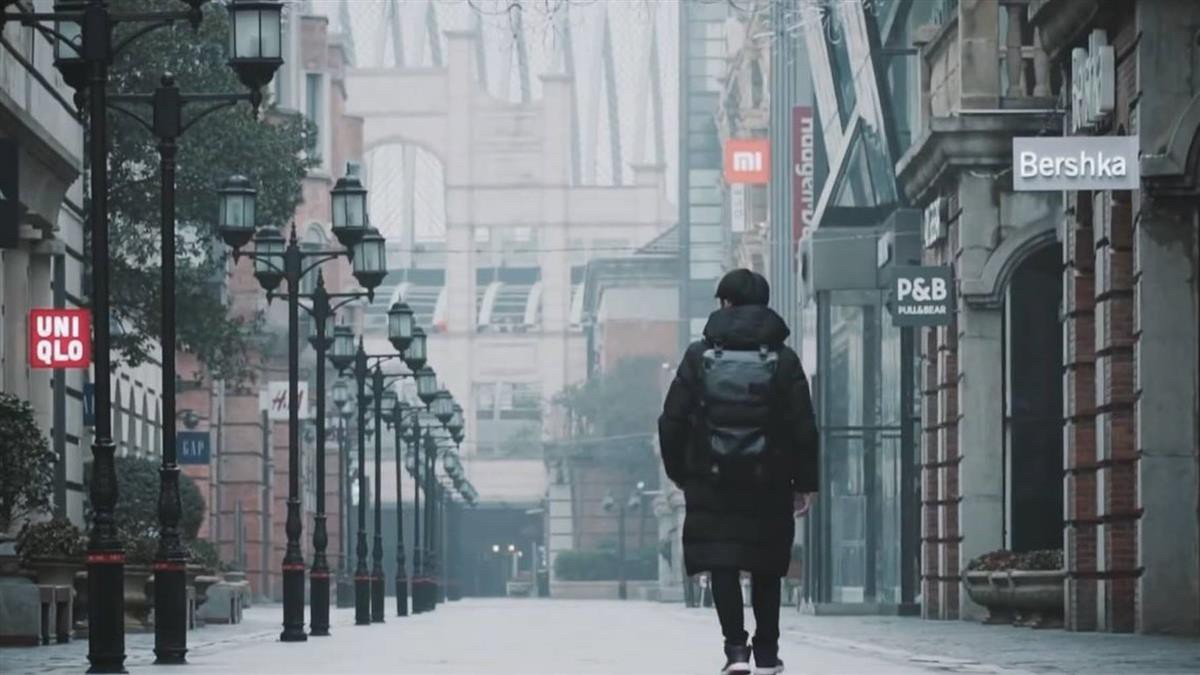people: (697, 267, 792, 675)
